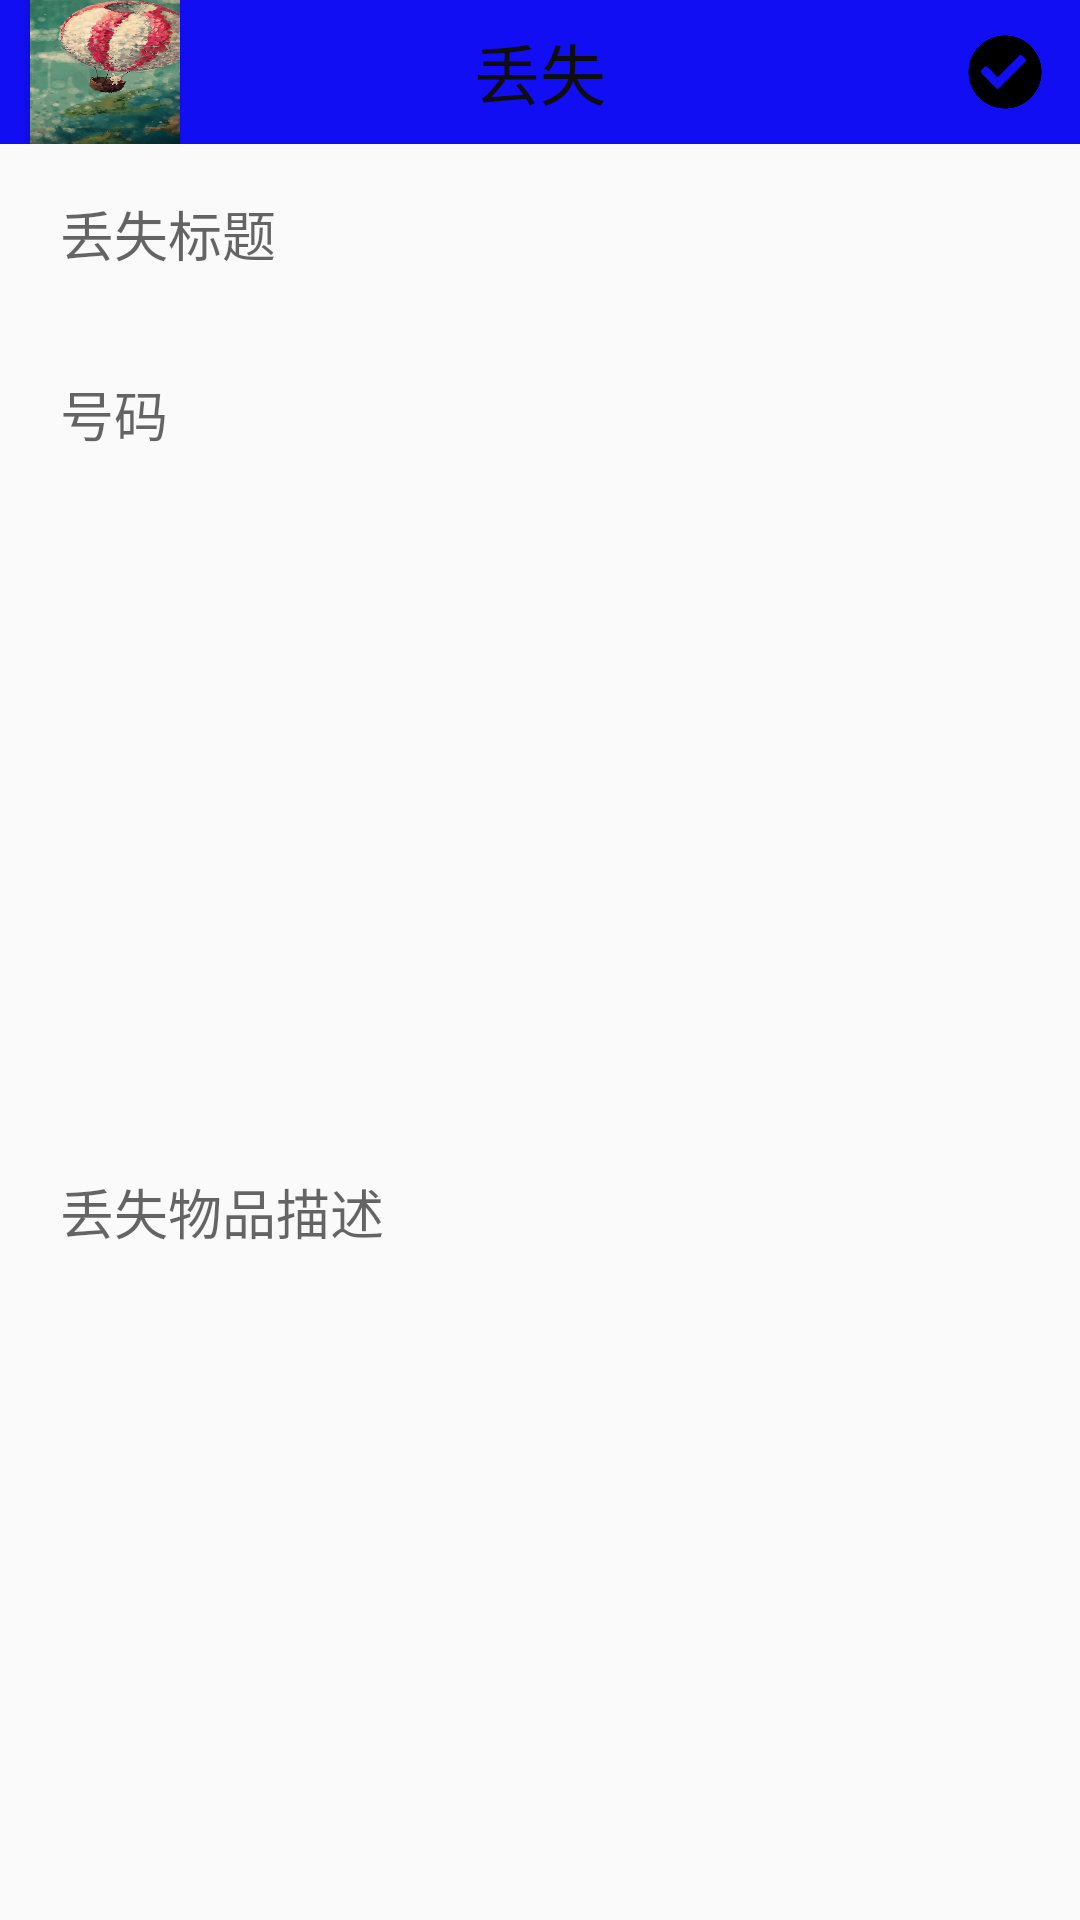

Icons on this 1080*1920 Android screen, each with the point to tap as [x,y]:
sure: [1005,72]
